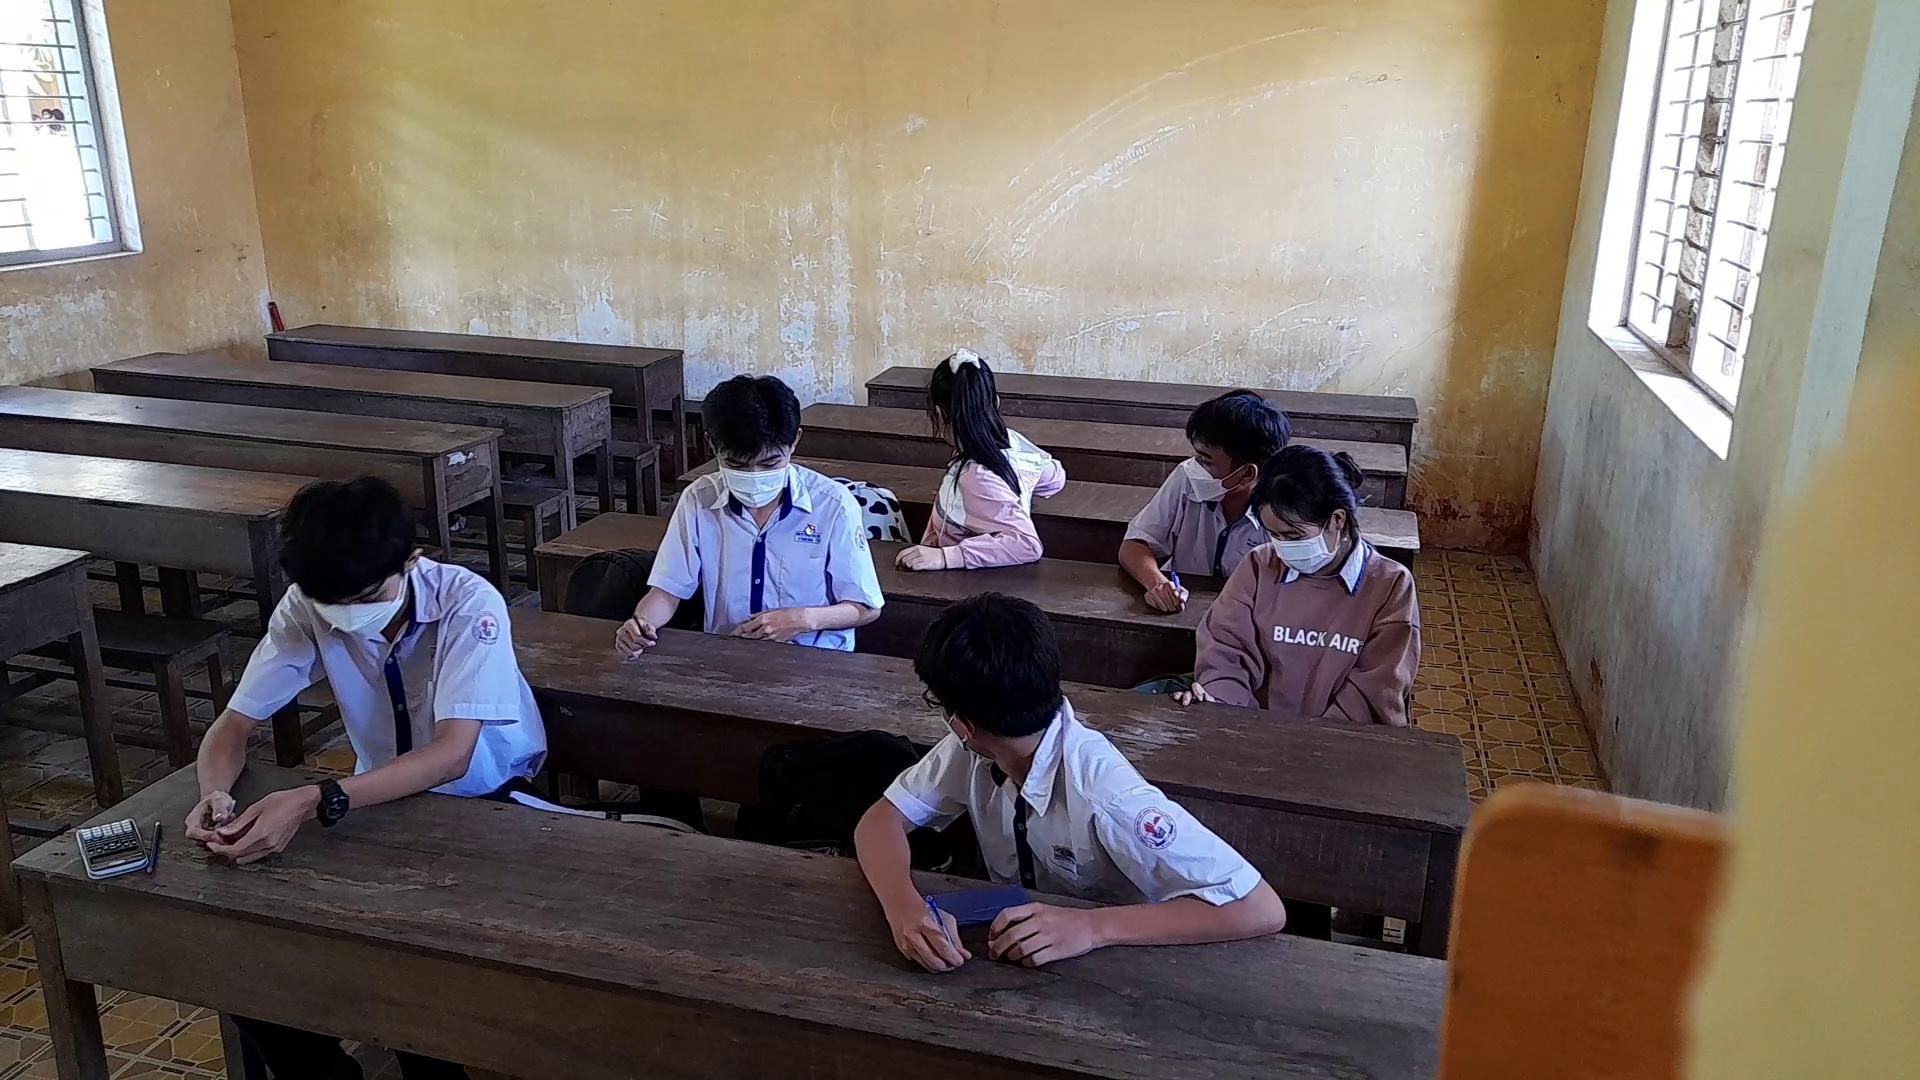Bend Over The Desk: (273, 464, 429, 655), (1245, 443, 1366, 583)
Hand Under Table: (1316, 571, 1420, 731)
Look Around: (899, 584, 1087, 762), (899, 324, 1085, 501), (1174, 375, 1296, 501)
Normal: (604, 361, 886, 665)
